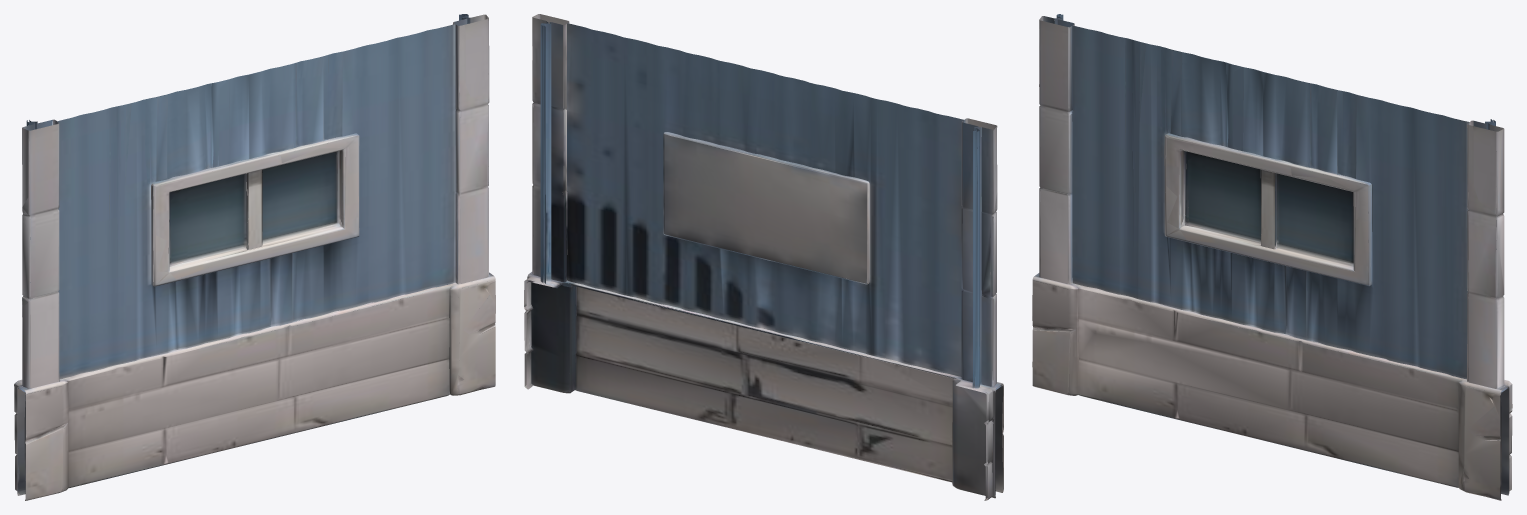
Rendered from window_panel.glb.
3 renders of one model, left to right at view 1: azimuth 30°, elevation 25°; view 2: azimuth 150°, elevation 25°; view 3: azimuth 330°, elevation 25°, orthographic.
Parts seen in each view (by area): view 1: Industrial_window_panel; view 2: Industrial_window_panel; view 3: Industrial_window_panel.
Boxes of the visible parts, x1=… form: Industrial_window_panel: x1=14, y1=14, x2=495, y2=500; Industrial_window_panel: x1=524, y1=14, x2=1003, y2=500; Industrial_window_panel: x1=1032, y1=14, x2=1512, y2=500.
Size of the model in its own units: 4 by 3 by 0.2013.
1 material, 1 textured.
